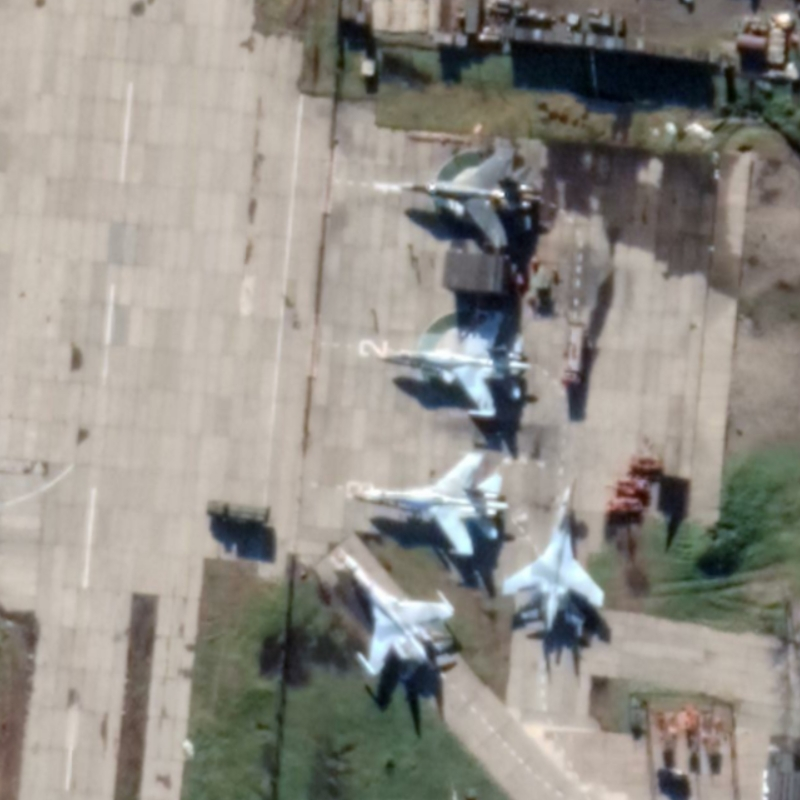A1: (374, 307, 535, 423), (498, 475, 608, 641), (344, 449, 510, 558), (397, 133, 544, 250), (340, 550, 458, 679)
